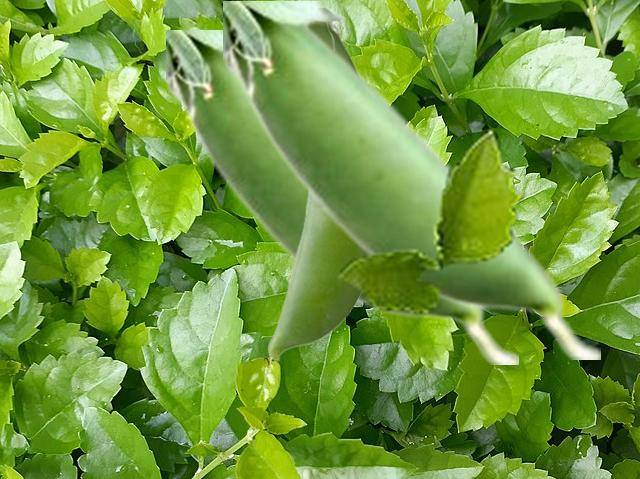pea: (223, 1, 599, 358), (166, 30, 517, 363), (268, 8, 363, 360)
